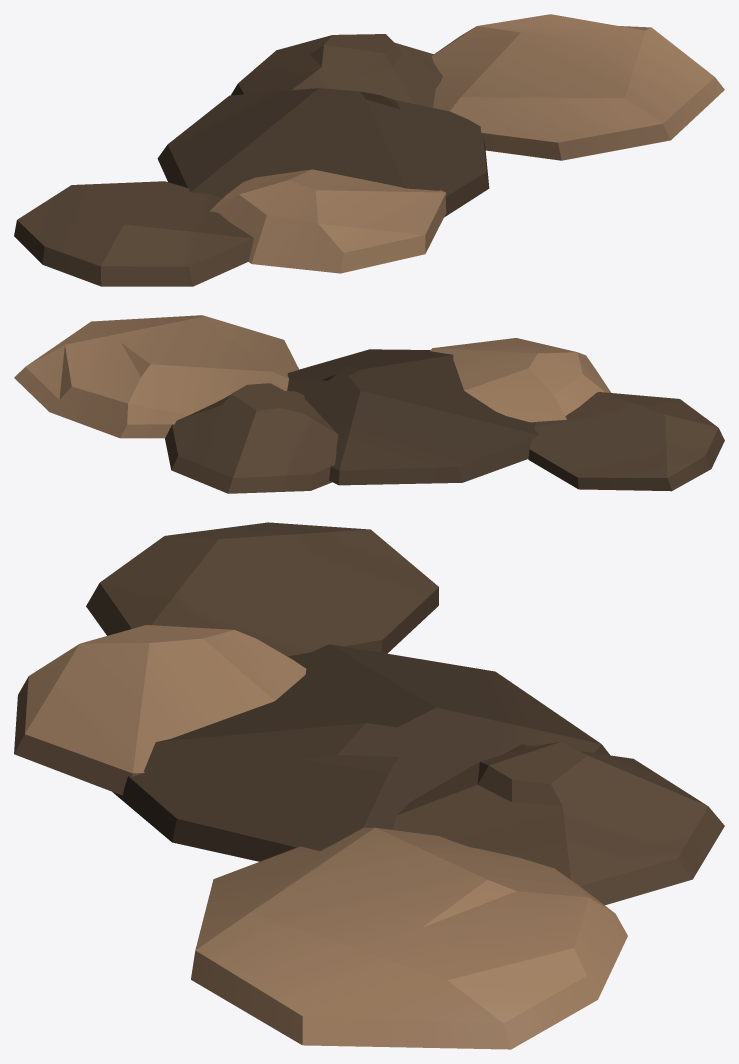
The model's file is ea_swamp_grass_hill_dead_01c_pre_3_lev1.glb.
3 renders of one model, top to bottom at view 1: azimuth 30°, elevation 25°; view 2: azimuth 150°, elevation 25°; view 3: azimuth 270°, elevation 25°, orthographic. The views are drawn at different scales.
Parts seen in each view (by area): view 1: ea_swamp_grass_hill_dead_01c_pre_3_lev1; view 2: ea_swamp_grass_hill_dead_01c_pre_3_lev1; view 3: ea_swamp_grass_hill_dead_01c_pre_3_lev1.
Part boxes in pixels (bbox=[...]): ea_swamp_grass_hill_dead_01c_pre_3_lev1: bbox=[14, 14, 724, 286]; ea_swamp_grass_hill_dead_01c_pre_3_lev1: bbox=[14, 315, 724, 493]; ea_swamp_grass_hill_dead_01c_pre_3_lev1: bbox=[14, 522, 724, 1049].
Size of the model in its own units: 2.84 by 0.2231 by 1.71.
1 material, 1 textured.
